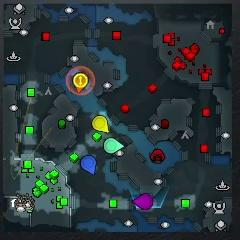Other: (74, 73, 88, 87)
p1: (81, 156, 97, 176)
p2: (104, 138, 124, 154)
p3: (132, 194, 153, 210)
p4: (92, 115, 109, 133)
p5: (73, 74, 87, 92)
